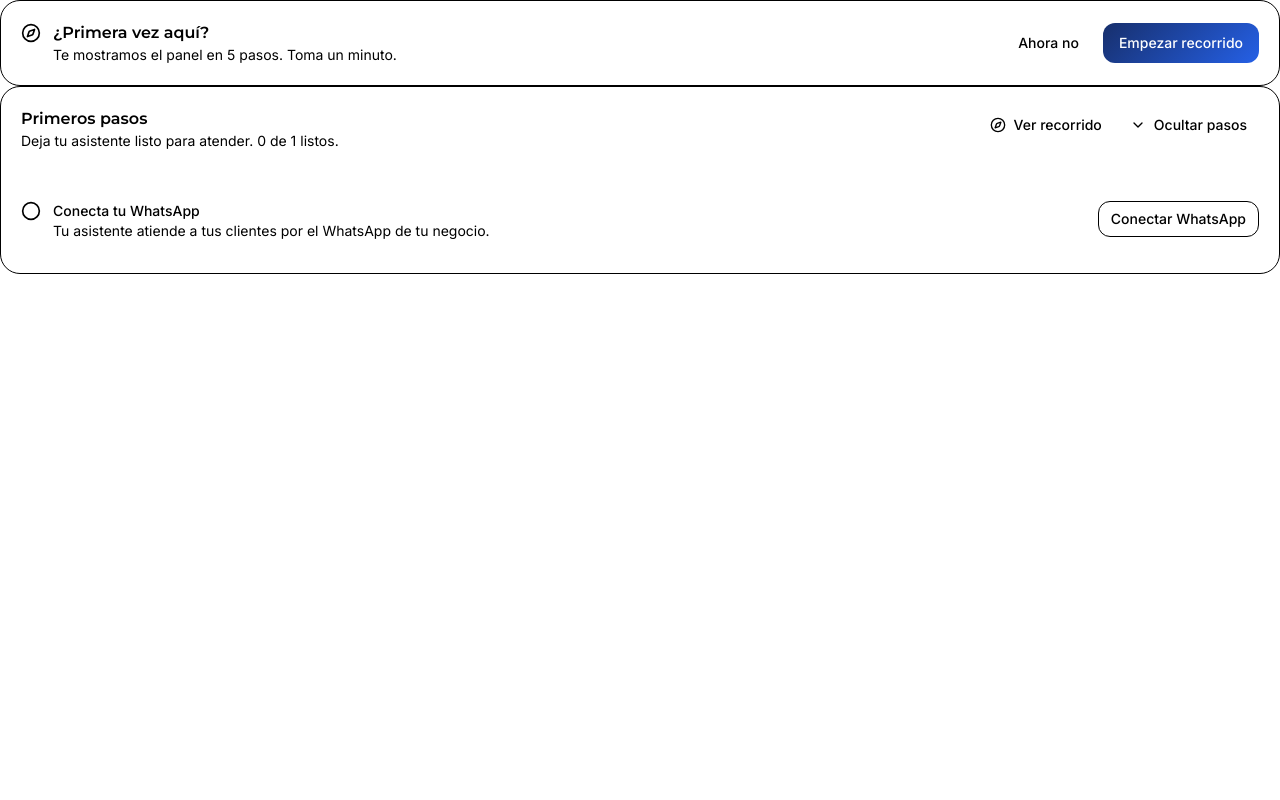
Test: Bienvenida (HU-SH-06) › en la primera visita ofrece el recorrido y lo abre al aceptarlo
Expected: the element "¿Primera vez aquí?" is shown, [0,0,1279,86]
Click the button "Empezar recorrido": (1181, 43) [1103,23,1259,63]
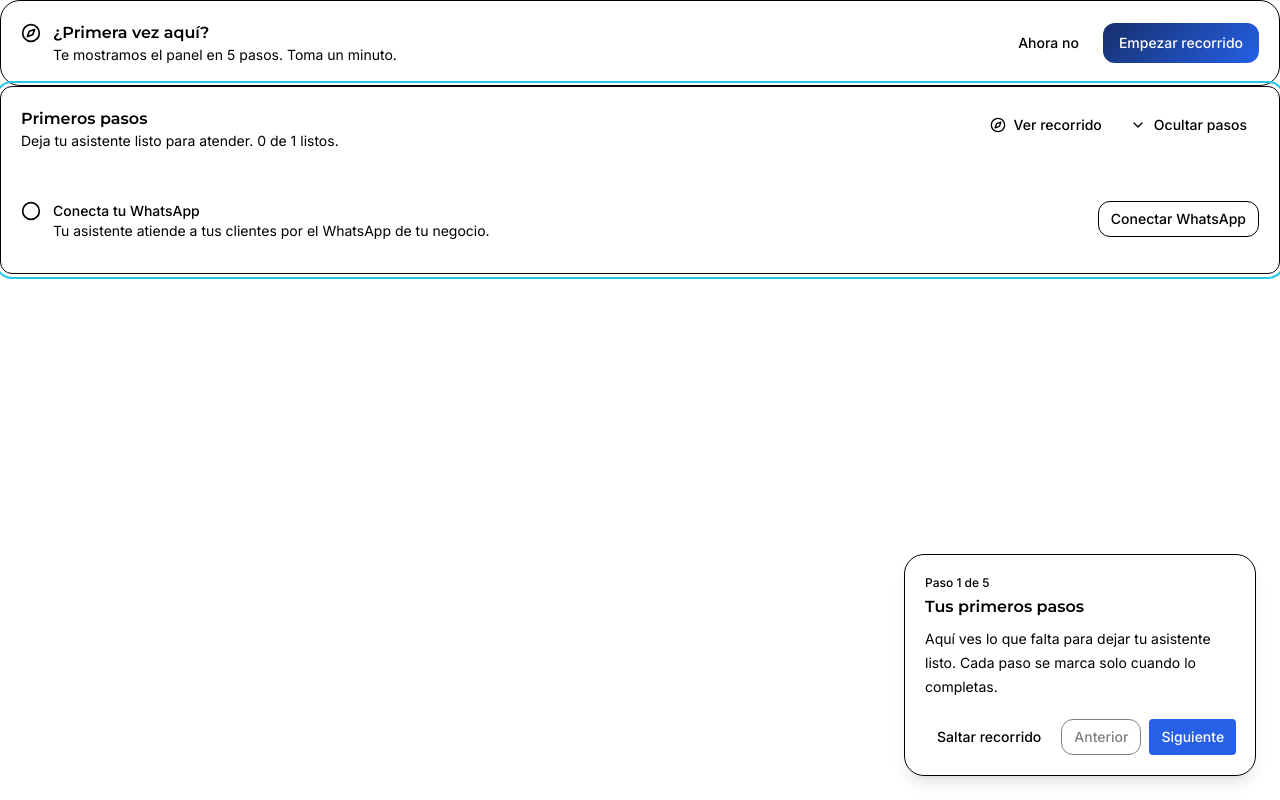
Result: the dialog shows "Tus primeros pasos" at [925,597,1084,616]
